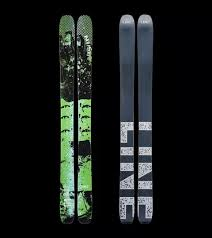skis: (57, 14, 95, 227), (117, 14, 155, 226)
